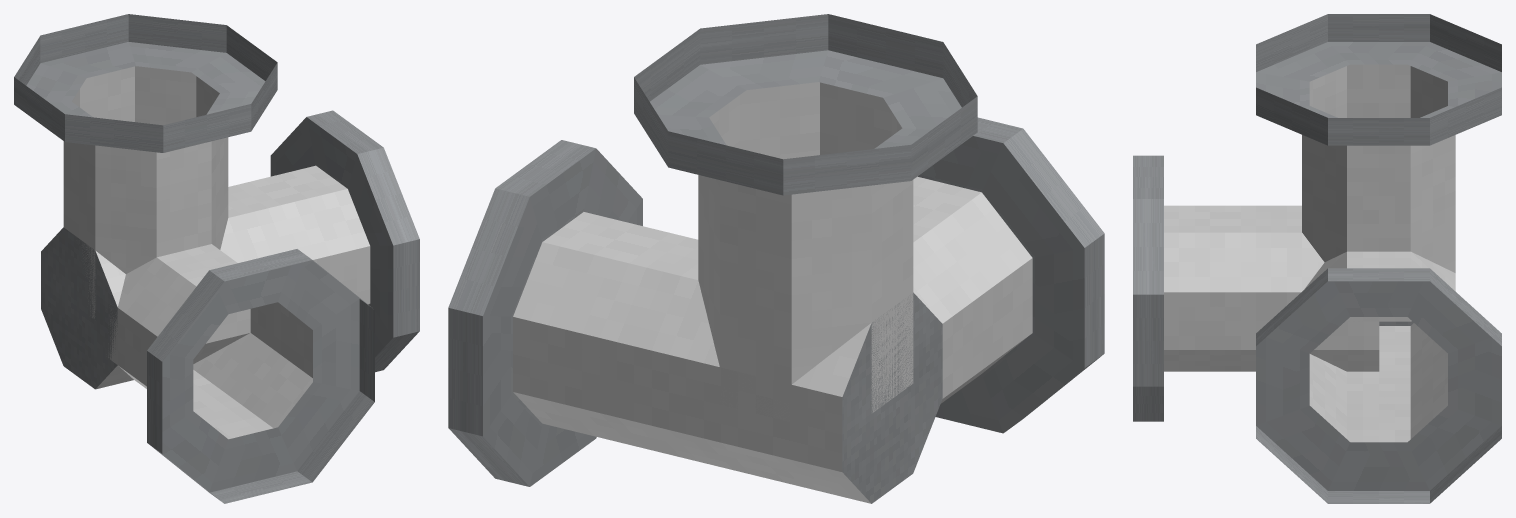
Rendered from connection_42.obj.
3 renders of one model, left to right at view 1: azimuth 30°, elevation 25°; view 2: azimuth 150°, elevation 25°; view 3: azimuth 270°, elevation 25°, orthographic. The views are drawn at different scales.
Bounding box in the file's own units: 0.75 × 0.75 × 0.75.
